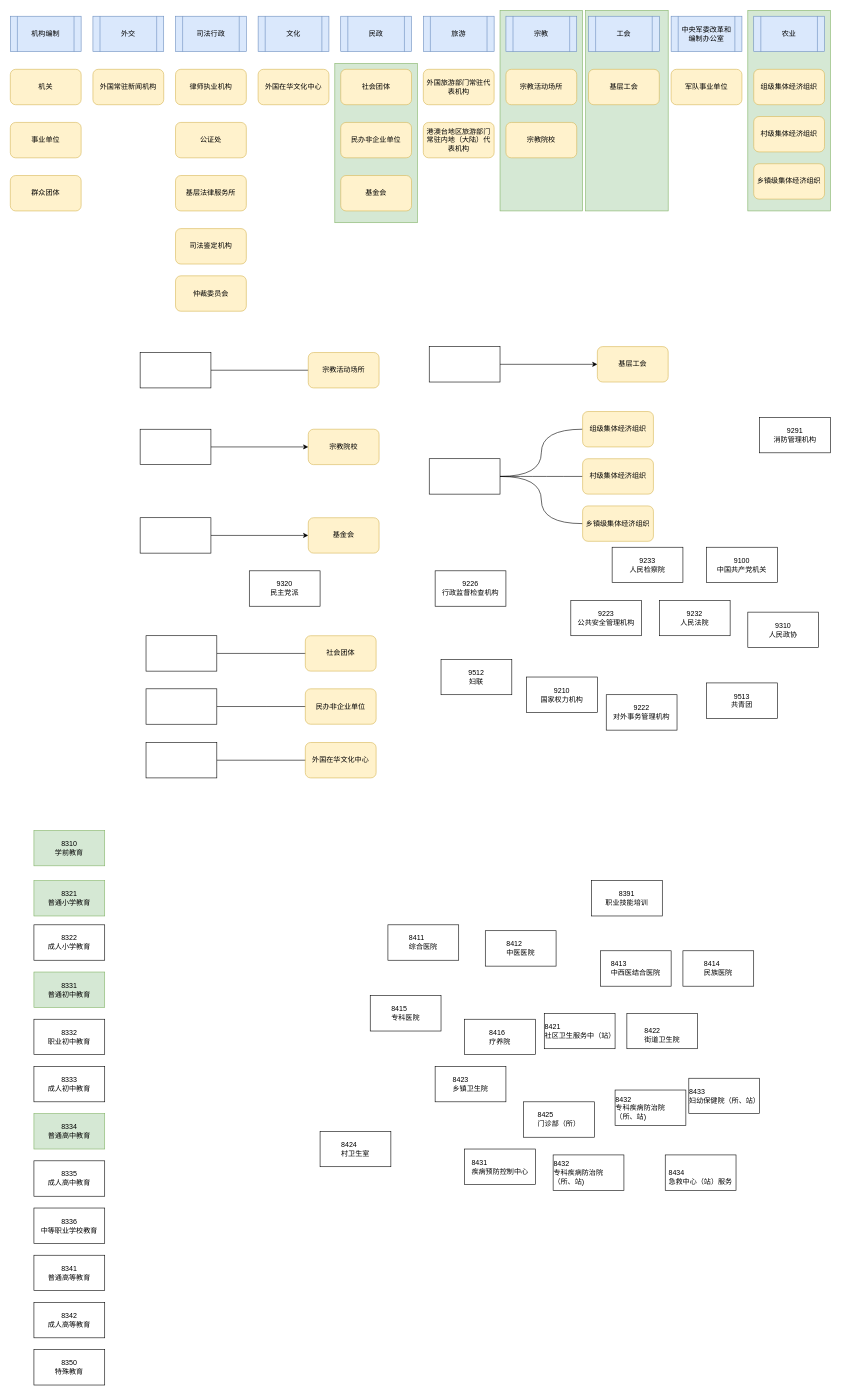
Some shapes in this 841 by 1395 pixel diagram are drawn without their labels. The shapes that lost their labels are listed below. From the top down, each one's centre as x and y in pixels, then its label:
At (x=175, y=370): "9541 宗教团体服务".
At (x=464, y=364): "9511 工会".
At (x=175, y=447): "9542 宗教活动场所服务".
At (x=464, y=476): "9620 村民自治组织".
At (x=175, y=535): "9530 基金会".
At (x=181, y=653): "9521 专业性团体".
At (x=181, y=706): "9522 行业性团体".
At (x=181, y=760): "9224 社会事务管理机构".
